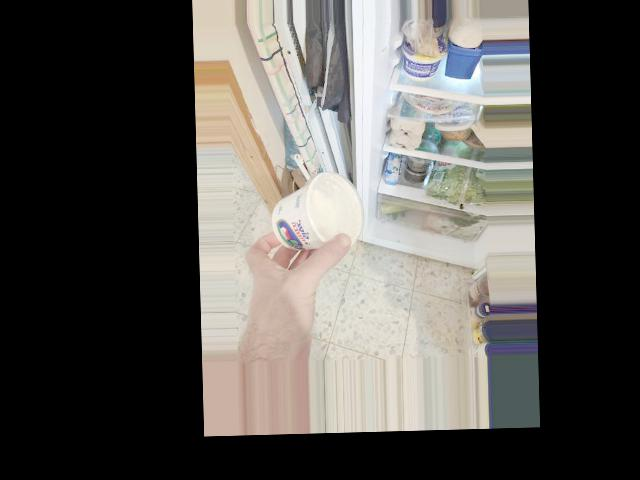cotage: (270, 176, 356, 255)
